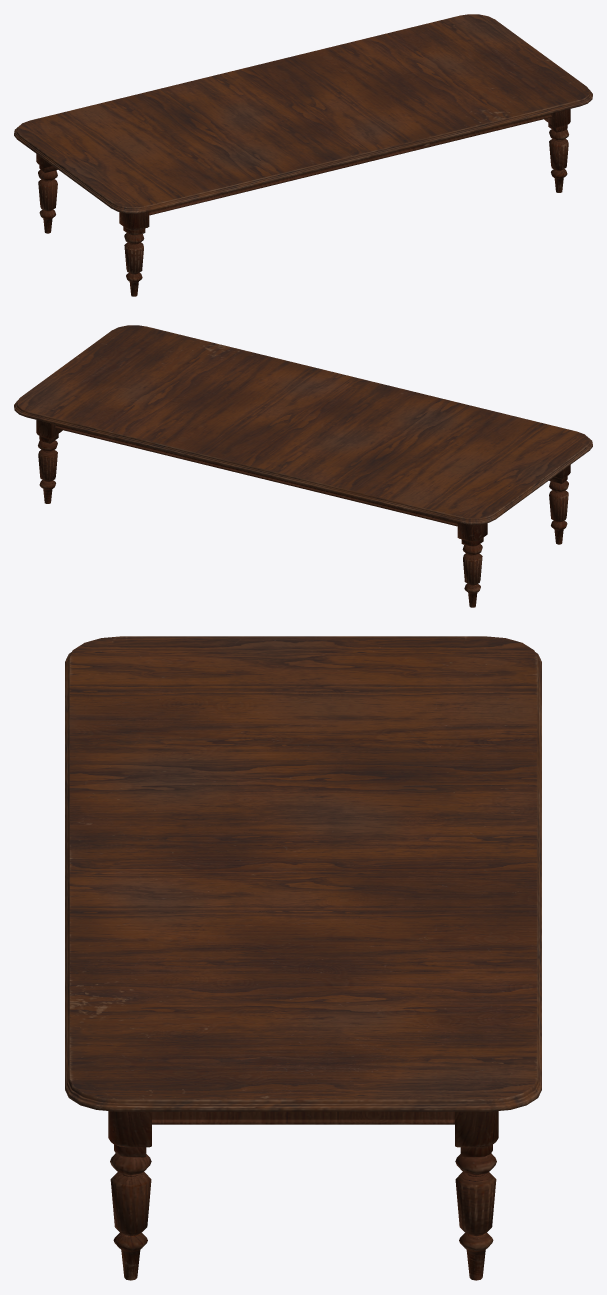
Rendered from table.fbx.
The picture shows the model from 3 angles, top to bottom: view 1: azimuth 30°, elevation 25°; view 2: azimuth 150°, elevation 25°; view 3: azimuth 270°, elevation 25°; orthographic projection. The views are drawn at different scales.
Visible parts, largest first — view 1: low poly table legs; view 2: low poly table legs; view 3: low poly table legs.
Part boxes in pixels (x1,y1,x2,y2): low poly table legs: (14, 14, 592, 296); low poly table legs: (14, 325, 592, 607); low poly table legs: (65, 636, 541, 1280).
Size of the model in its own units: 815 by 165 by 352.
1 material, 1 textured.
